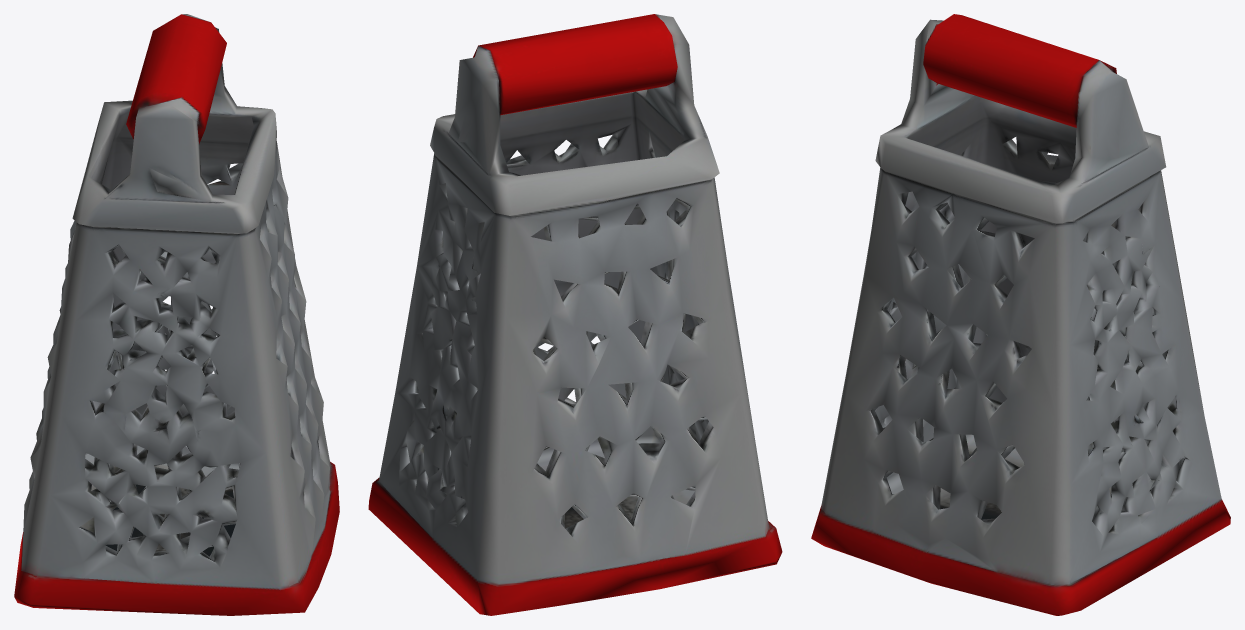
File: grater.glb
The picture shows the model from 3 angles, left to right: view 1: azimuth 30°, elevation 25°; view 2: azimuth 150°, elevation 25°; view 3: azimuth 270°, elevation 25°; orthographic projection. The views are drawn at different scales.
Visible parts, largest first — view 1: tripo_node_4a92e5a1-87e6-4241-ac60-82d58d8da8ce; view 2: tripo_node_4a92e5a1-87e6-4241-ac60-82d58d8da8ce; view 3: tripo_node_4a92e5a1-87e6-4241-ac60-82d58d8da8ce.
Boxes of the visible parts, x1,y1,x2,y2 form: tripo_node_4a92e5a1-87e6-4241-ac60-82d58d8da8ce: (14, 14, 339, 615); tripo_node_4a92e5a1-87e6-4241-ac60-82d58d8da8ce: (368, 14, 782, 615); tripo_node_4a92e5a1-87e6-4241-ac60-82d58d8da8ce: (811, 14, 1230, 615).
Bounding box in the file's own units: 0.7688 × 1 × 0.7728.
1 material, 1 textured.
